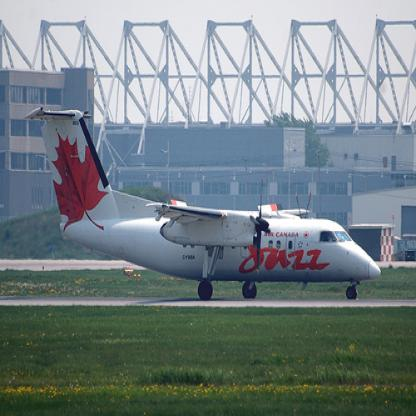aeroplane: (20, 104, 378, 300)
